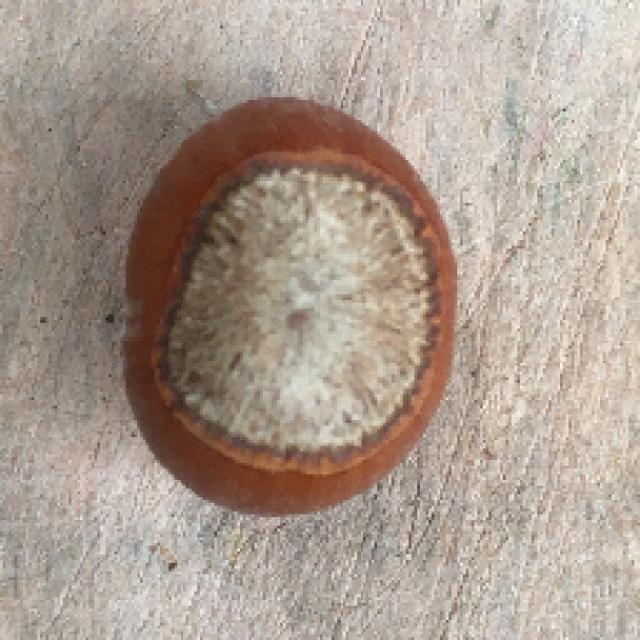qualityHazelnut: (110, 95, 465, 517)
